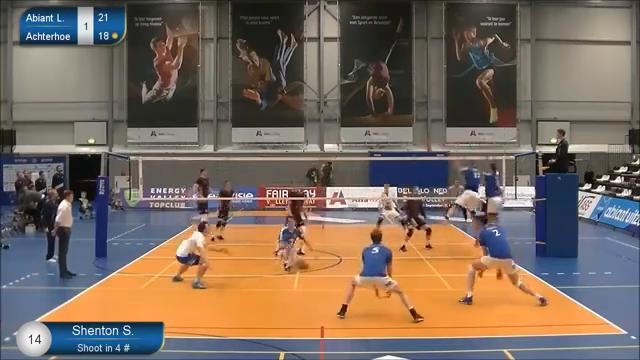ricezione: (331, 225, 428, 330)
